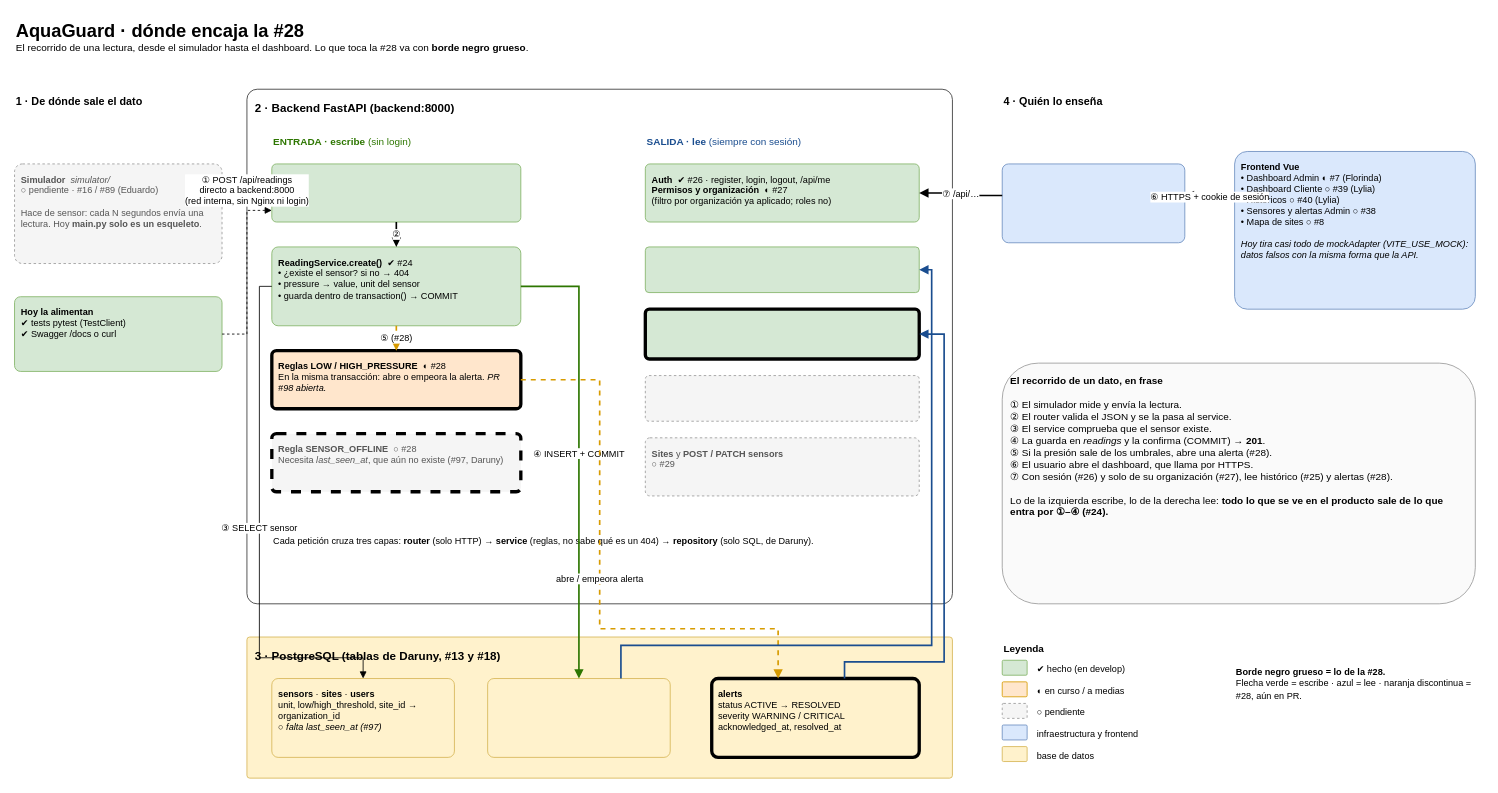
This 1498x793 diagram has some shape labels left out. The shapes that lost their labels are listed below. From the top down, each one's centre as x and y in pixels, then its label:
At (396,192): "POST /api/readings ✔ #24 Valida el JSON con ReadingCreate → 422 si no encaja".
At (1093,203): "Gateway Nginx ✔ #20 HTTPS :443 /api/ → backend:8000 /ws/ → reservado".
At (781,269): "GET /api/sensors/{id}/readings ✔ #25 Histórico paginado de un sensor".
At (781,333): "GET /api/alerts · PATCH acknowledge / resolve ✔ #28 (PR #78)".
At (781,398): "GET /api/sensors · GET /api/sensors/{id} ○ #25 · el router existe sin rutas".
At (578,717): "readings sensor_id, value, unit, recorded_at, created_at".
